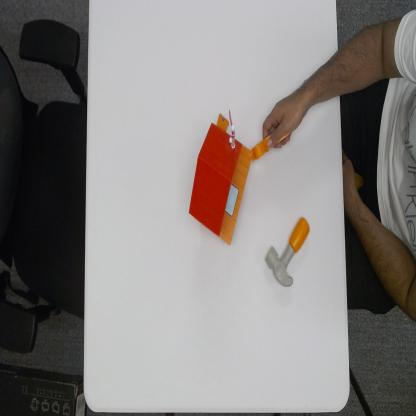Arm: (302, 52, 340, 106)
Hammer: (264, 213, 311, 290)
Hand: (262, 92, 308, 144)
House: (190, 108, 252, 247)
Screwdriver: (253, 134, 296, 162)
